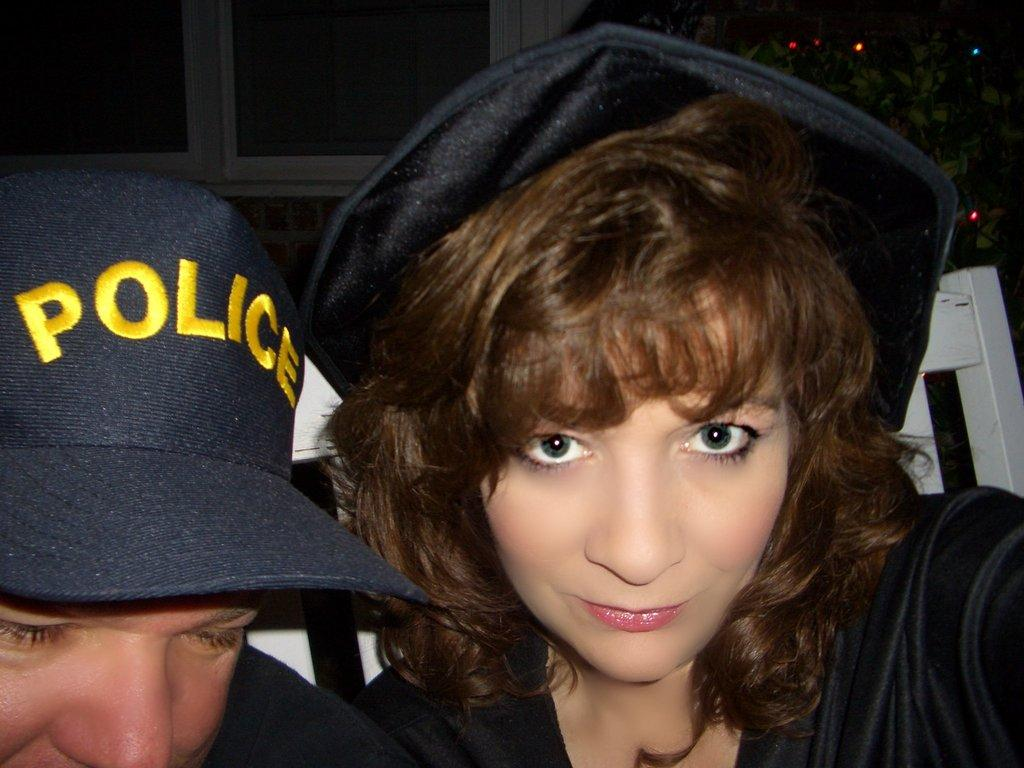Hat: (304, 25, 956, 432), (0, 168, 430, 633)
